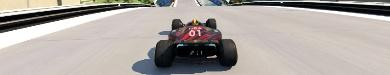Car: (153, 17, 237, 67)
